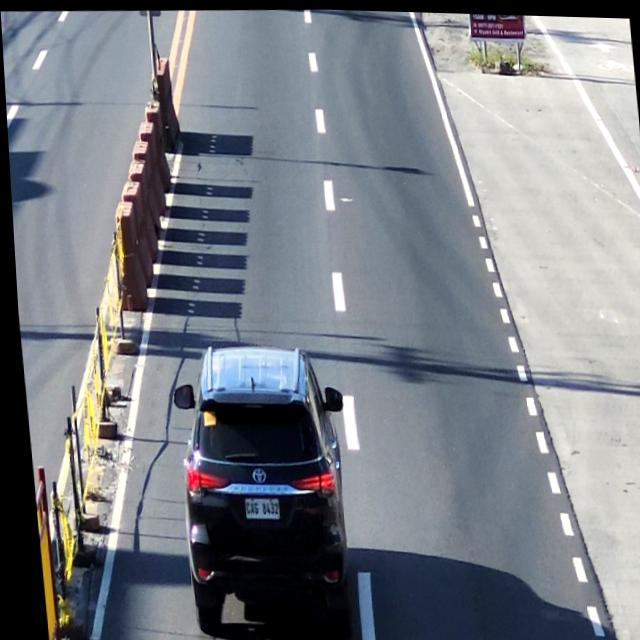Car: (165, 339, 353, 630)
License-Plate: (233, 491, 277, 524)
